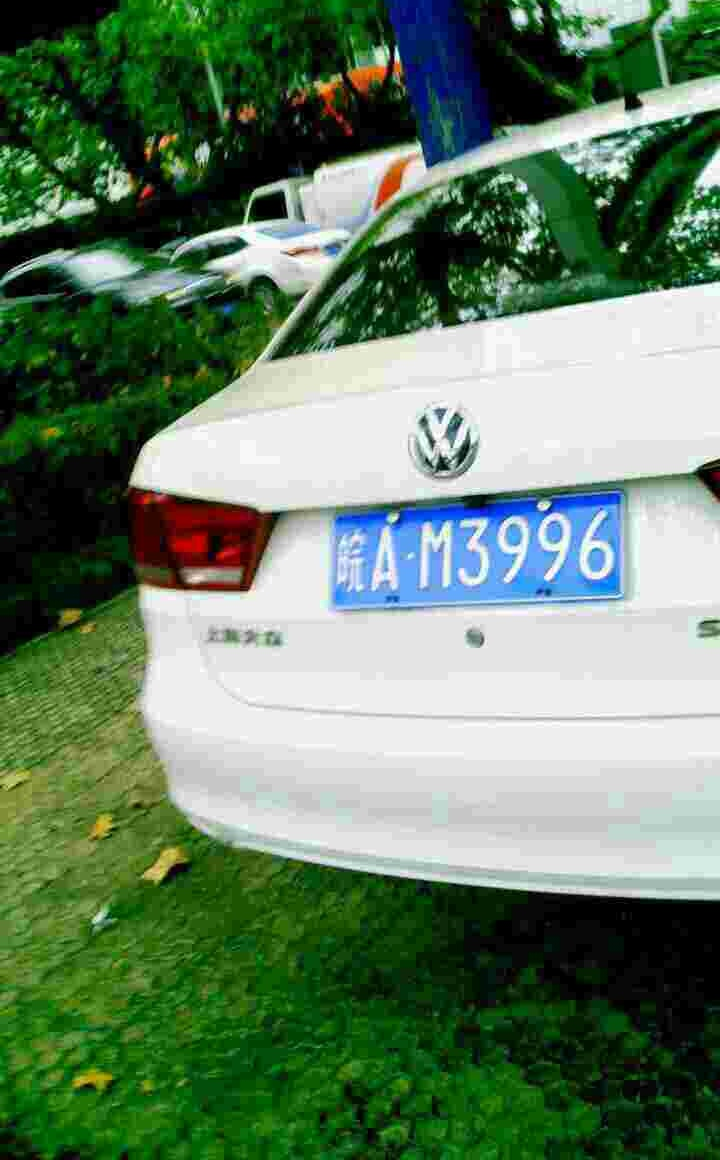license_plate: (325, 498, 622, 608)
